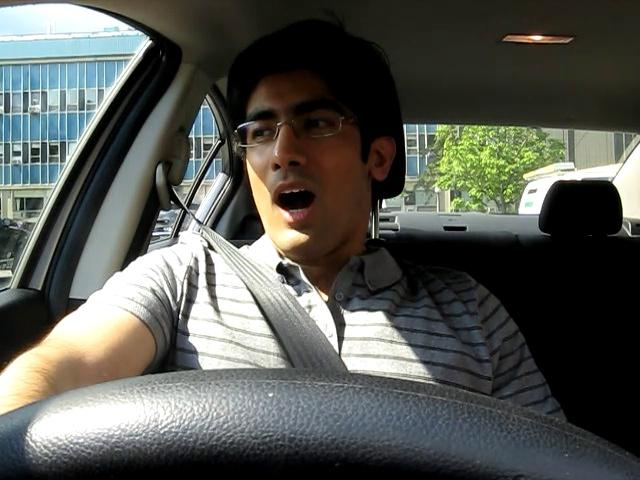open_eyeL: (240, 118, 286, 146)
open_eyeR: (289, 105, 355, 142)
yawn: (260, 177, 336, 225)
